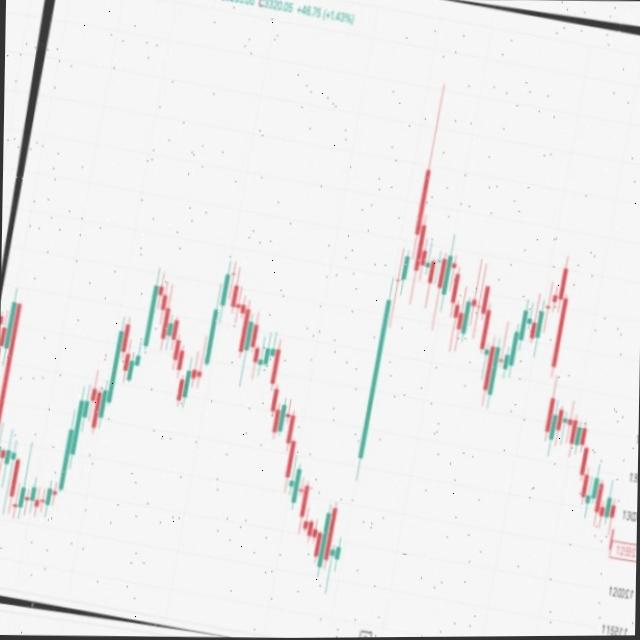Gap Down: (541, 303, 566, 437)
Gap Up: (328, 291, 394, 563)
